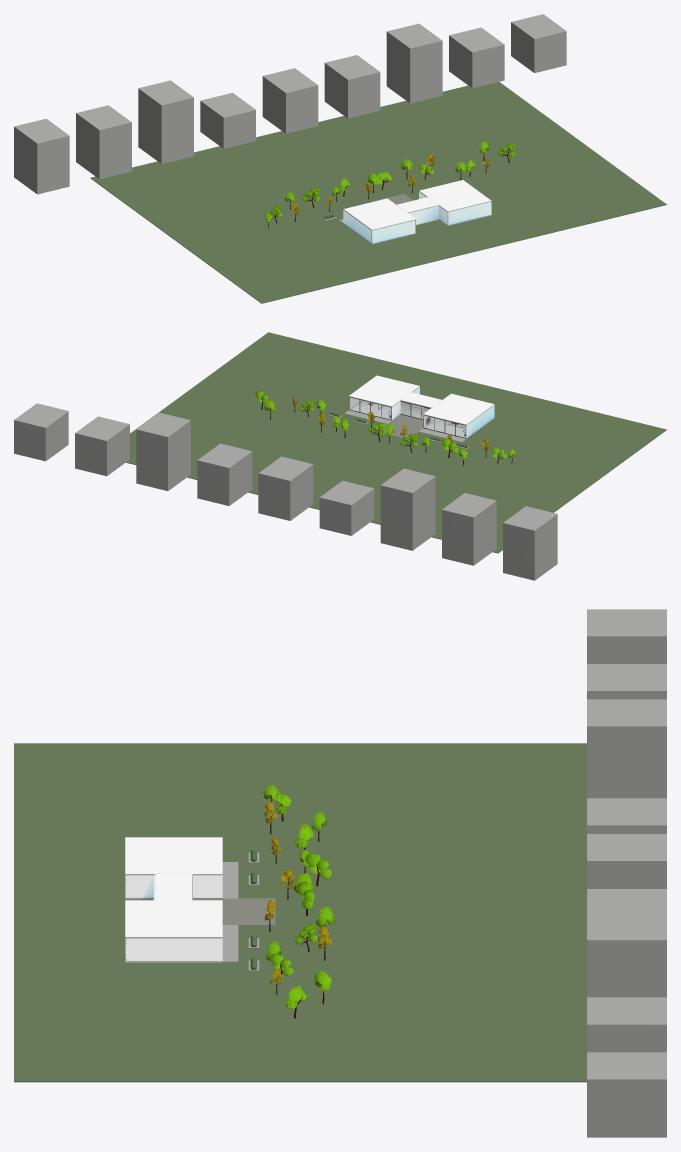
The model's file is gallery.glb.
The picture shows the model from 3 angles, top to bottom: view 1: azimuth 30°, elevation 25°; view 2: azimuth 150°, elevation 25°; view 3: azimuth 270°, elevation 25°; orthographic projection. The views are drawn at different scales.
Visible parts, largest first — view 1: Exterior_Ground_WEB, Exterior_DistantArchitecture_02_WEB, Exterior_DistantArchitecture_06_WEB, Exterior_DistantArchitecture_00_WEB, Exterior_DistantArchitecture_01_WEB, Exterior_DistantArchitecture_04_WEB, Exterior_DistantArchitecture_05_WEB, Exterior_DistantArchitecture_07_WEB, Exterior_DistantArchitecture_08_WEB, Exterior_DistantArchitecture_03_WEB, Architecture_room-a, Architecture_room-b (+1 smaller); view 2: Exterior_Ground_WEB, Exterior_DistantArchitecture_02_WEB, Exterior_DistantArchitecture_06_WEB, Exterior_DistantArchitecture_00_WEB, Exterior_DistantArchitecture_01_WEB, Exterior_DistantArchitecture_04_WEB, Exterior_DistantArchitecture_05_WEB, Exterior_DistantArchitecture_07_WEB, Exterior_DistantArchitecture_08_WEB, Exterior_DistantArchitecture_03_WEB, Architecture_room-a, Architecture_room-b (+2 smaller); view 3: Exterior_Ground_WEB, Exterior_DistantArchitecture_02_WEB, Exterior_DistantArchitecture_08_WEB, Exterior_DistantArchitecture_06_WEB, Architecture_room-b, Exterior_DistantArchitecture_07_WEB, Exterior_DistantArchitecture_00_WEB, Exterior_DistantArchitecture_04_WEB, Architecture_room-a, Exterior_DistantArchitecture_01_WEB, Exterior_DistantArchitecture_03_WEB, Architecture_corridor (+2 smaller).
Boxes of the visible parts, x1,y1,x2,y2 form: Exterior_Ground_WEB: (90, 82, 666, 303); Exterior_DistantArchitecture_02_WEB: (138, 80, 193, 163); Exterior_DistantArchitecture_06_WEB: (386, 23, 442, 103); Exterior_DistantArchitecture_00_WEB: (14, 118, 69, 194); Exterior_DistantArchitecture_01_WEB: (76, 105, 131, 179); Exterior_DistantArchitecture_04_WEB: (262, 68, 318, 133); Exterior_DistantArchitecture_05_WEB: (324, 55, 380, 118); Exterior_DistantArchitecture_07_WEB: (449, 27, 504, 88); Exterior_DistantArchitecture_08_WEB: (511, 14, 566, 72); Exterior_DistantArchitecture_03_WEB: (200, 92, 255, 148); Architecture_room-a: (343, 198, 415, 244); Architecture_room-b: (419, 180, 491, 225); Exterior_Ground_WEB: (126, 332, 666, 553); Exterior_DistantArchitecture_02_WEB: (380, 468, 435, 550); Exterior_DistantArchitecture_06_WEB: (136, 412, 190, 490); Exterior_DistantArchitecture_00_WEB: (503, 506, 557, 580); Exterior_DistantArchitecture_01_WEB: (442, 493, 496, 565); Exterior_DistantArchitecture_04_WEB: (258, 456, 313, 520); Exterior_DistantArchitecture_05_WEB: (197, 443, 252, 505); Exterior_DistantArchitecture_07_WEB: (75, 416, 129, 476); Exterior_DistantArchitecture_08_WEB: (14, 403, 68, 461); Exterior_DistantArchitecture_03_WEB: (319, 480, 374, 535); Architecture_room-a: (423, 393, 494, 438); Architecture_room-b: (348, 375, 419, 419); Exterior_Ground_WEB: (14, 743, 586, 1082); Exterior_DistantArchitecture_02_WEB: (587, 699, 666, 798); Exterior_DistantArchitecture_08_WEB: (587, 1052, 666, 1137); Exterior_DistantArchitecture_06_WEB: (587, 913, 666, 997); Architecture_room-b: (125, 900, 222, 962); Exterior_DistantArchitecture_07_WEB: (587, 997, 666, 1052); Exterior_DistantArchitecture_00_WEB: (587, 609, 666, 663); Exterior_DistantArchitecture_04_WEB: (587, 834, 666, 888); Architecture_room-a: (125, 837, 222, 899); Exterior_DistantArchitecture_01_WEB: (587, 664, 666, 699); Exterior_DistantArchitecture_03_WEB: (587, 798, 666, 833); Architecture_corridor: (125, 874, 222, 900).
Bounding box in the file's own units: 196 × 20.98 × 122.
56 materials, 24 textured.
